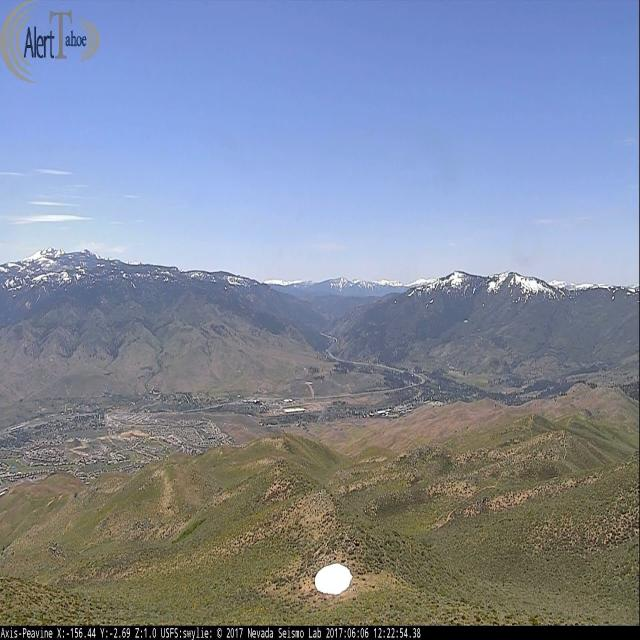smoke: (317, 389, 332, 426)
